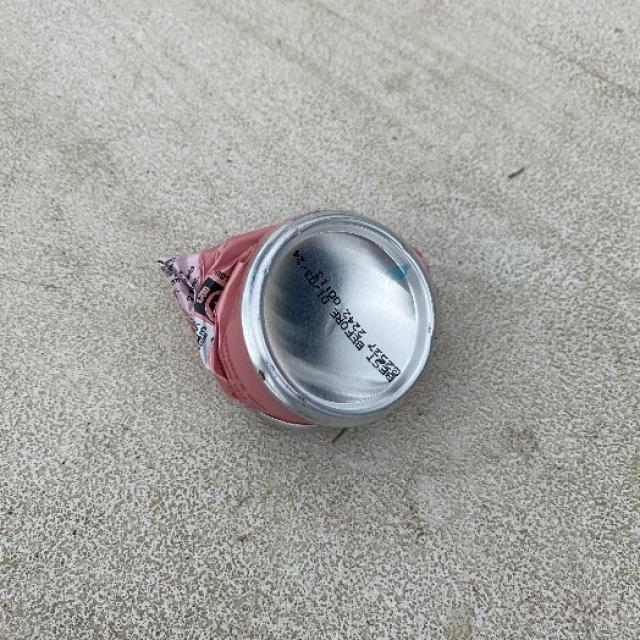metal: (156, 208, 438, 431)
